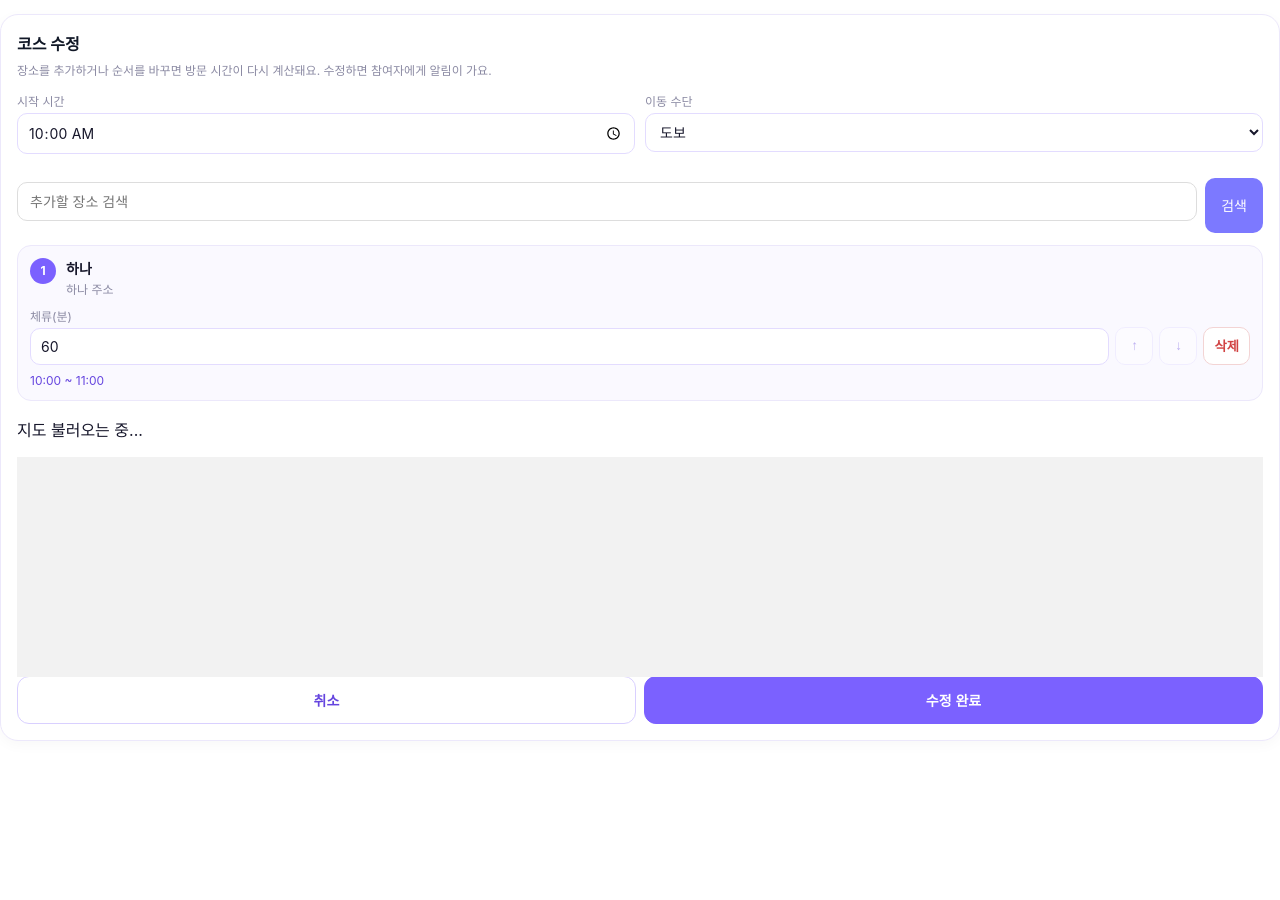
Test: 모든 장소를 지우면 저장할 수 없고 저장 실패는 안내
What coordinates should you click on to do the following:
click the button with aria-label "1번째 장소 삭제"
I would click on:
 (1227, 346)
Its box is [1204,327,1250,365].
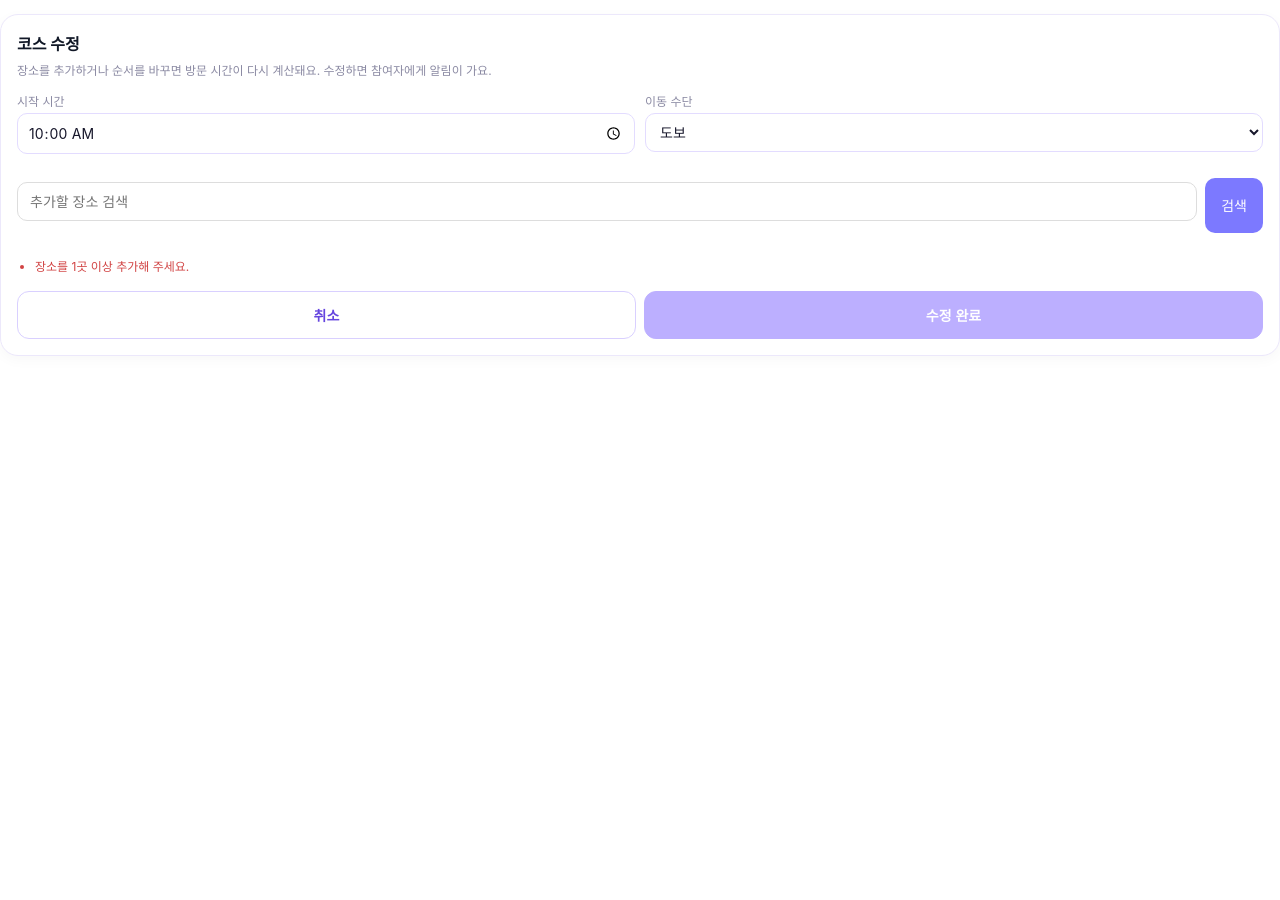
Expected: the button "수정 완료" is disabled, [644,291,1263,339]
